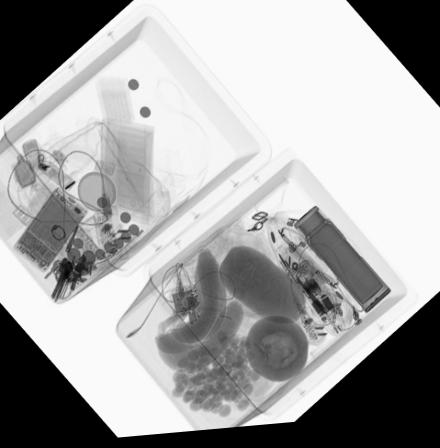Knife: (289, 280, 328, 324)
